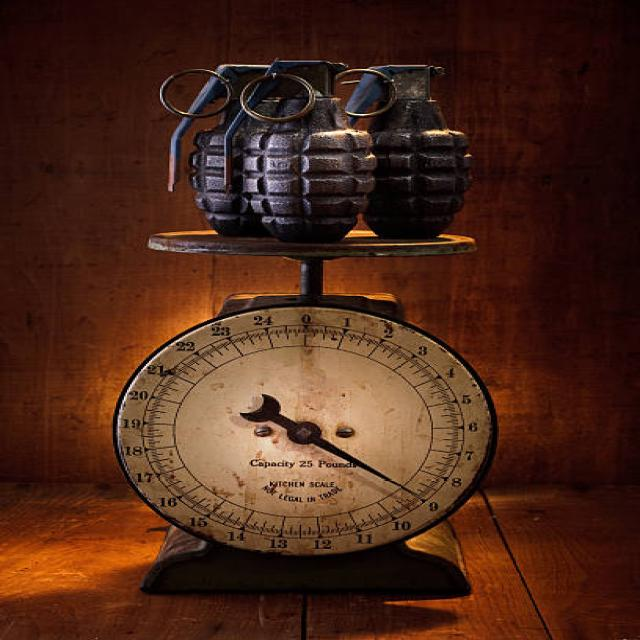grenade: (222, 57, 377, 245), (340, 63, 479, 246)
